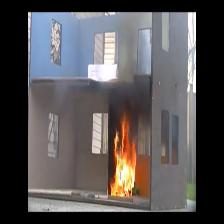fire: (111, 130, 137, 194)
smoke: (110, 77, 151, 109)
